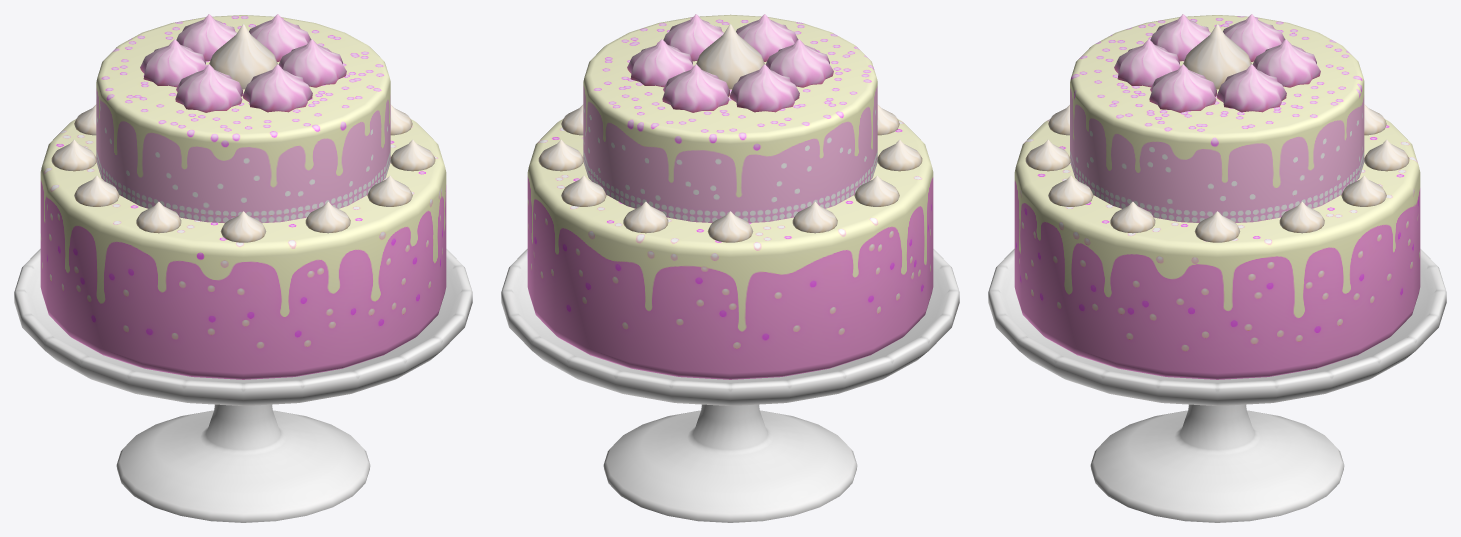
Rendered from BuffetCakes02_2.FBX.
3 views of the same model, side by side, from view 1: azimuth 30°, elevation 25°; view 2: azimuth 150°, elevation 25°; view 3: azimuth 270°, elevation 25° (orthographic).
Visible parts, largest first — view 1: BuffetCakes02_2; view 2: BuffetCakes02_2; view 3: BuffetCakes02_2.
Boxes of the visible parts, bbox=[...] form: BuffetCakes02_2: bbox=[14, 14, 472, 522]; BuffetCakes02_2: bbox=[501, 14, 959, 522]; BuffetCakes02_2: bbox=[988, 14, 1446, 522].
Size of what is drawn, in the model's own units: 0.4878 by 0.5227 by 0.4878.
